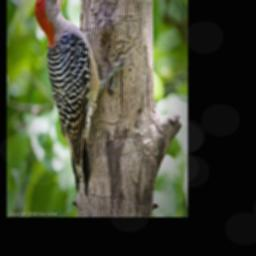Woodpecker: (28, 0, 136, 196)
